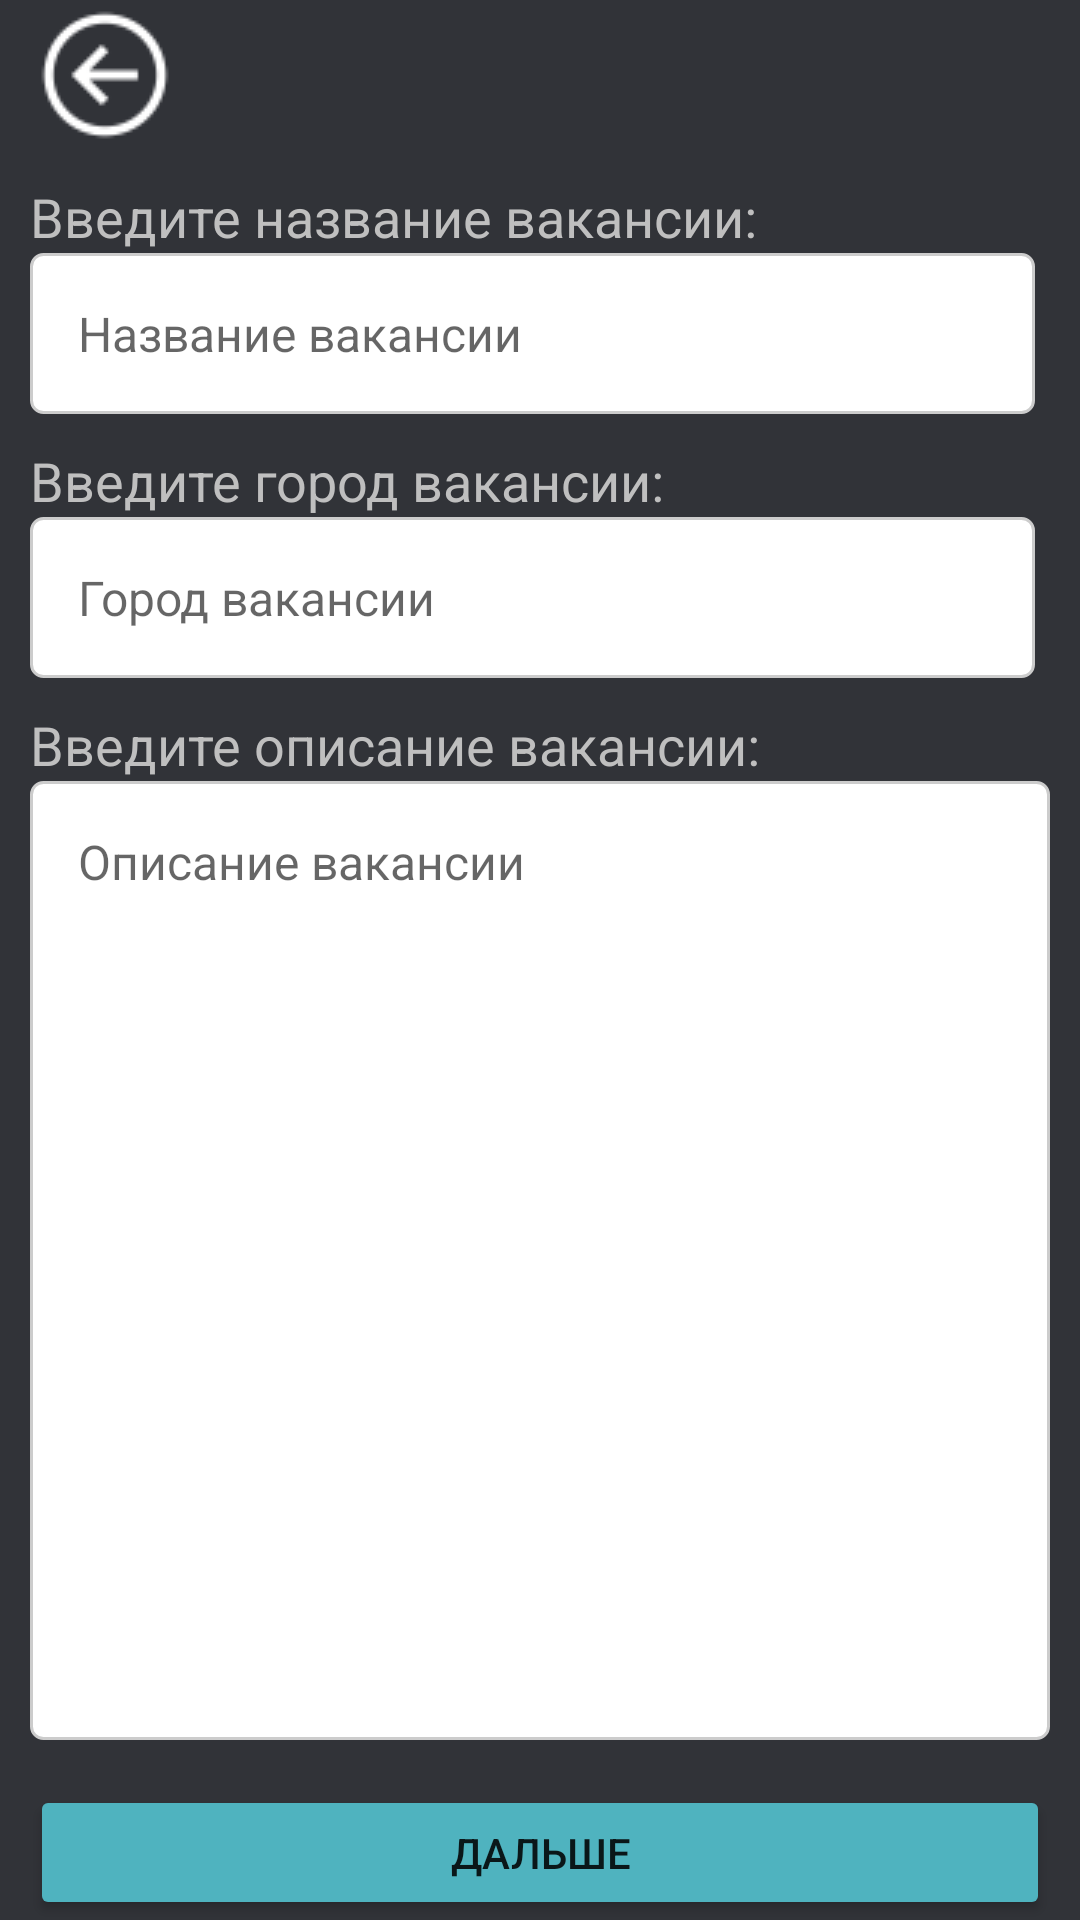

Where icons sit on this 1080x1920 app screen, as {"x1": x1, "y1": y1, "x2": x2, "y2": y2}:
go back: {"x1": 42, "y1": 12, "x2": 168, "y2": 138}
